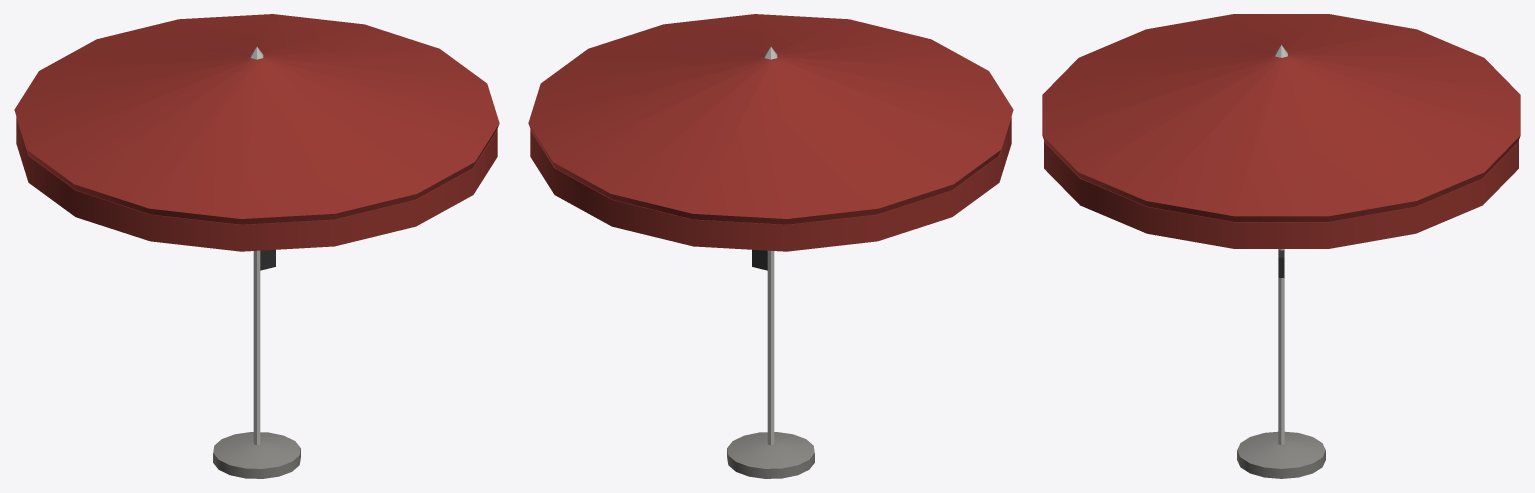
Rendered from SM_Prop_cafe_parasol_2.glb.
3 renders of one model, left to right at view 1: azimuth 30°, elevation 25°; view 2: azimuth 150°, elevation 25°; view 3: azimuth 270°, elevation 25°, orthographic.
Parts seen in each view (by area): view 1: SM_Prop_cafe_parasol_2; view 2: SM_Prop_cafe_parasol_2; view 3: SM_Prop_cafe_parasol_2.
Boxes of the visible parts, left/top/right/bottom form: SM_Prop_cafe_parasol_2: left=14, top=14, right=499, bottom=478; SM_Prop_cafe_parasol_2: left=528, top=14, right=1013, bottom=478; SM_Prop_cafe_parasol_2: left=1042, top=14, right=1520, bottom=478.
Bounding box in the file's own units: 2.59 × 2.48 × 2.59.
